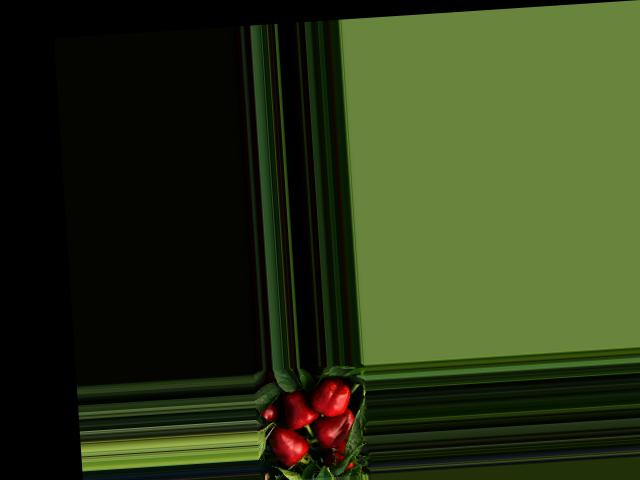bell_pepper: (300, 377, 355, 419)
